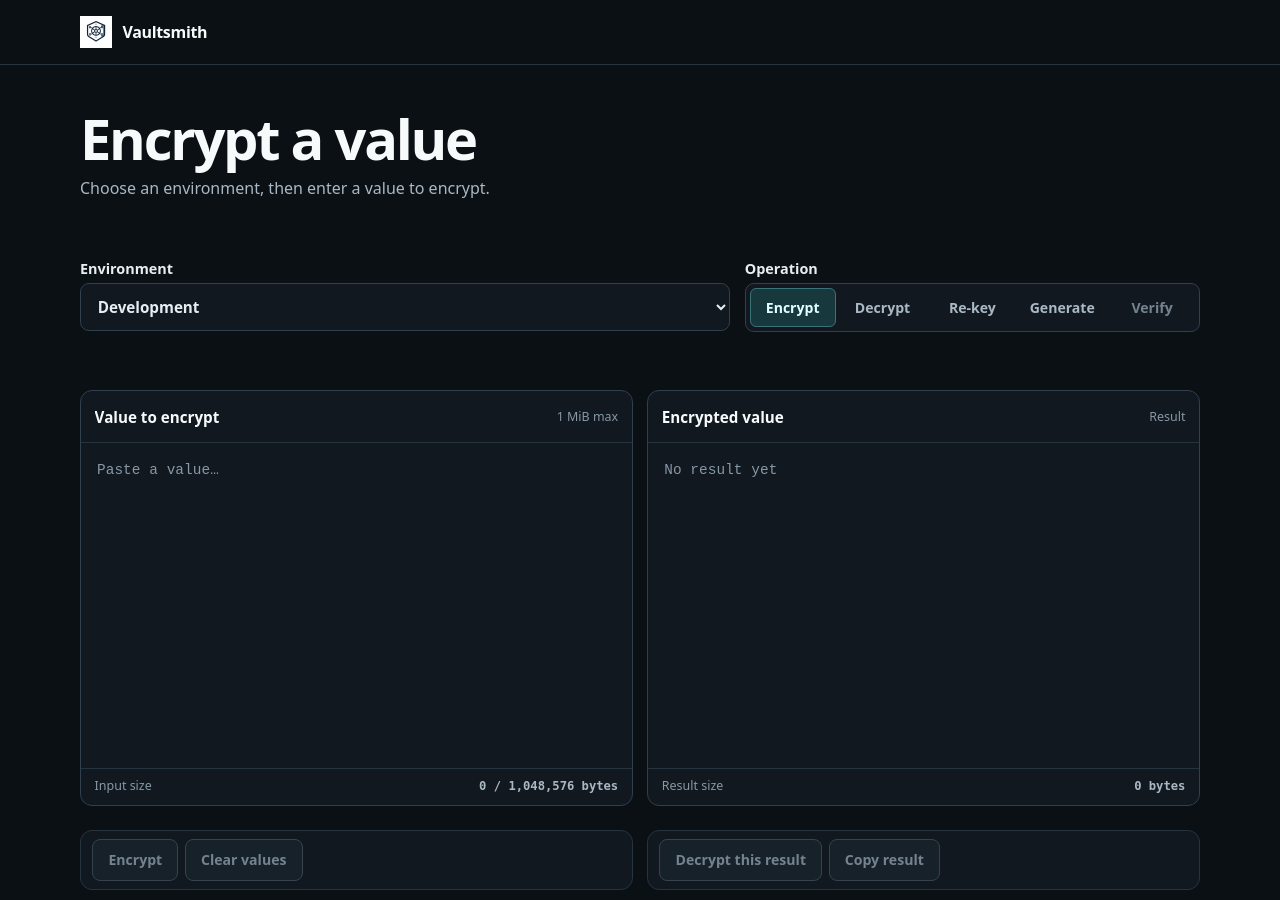
it: Vaultsmith operator experience › keeps each editor, its auxiliary content, and its actions in one pane
Type "fixture-value" into the text box labelled "Value to encrypt" at [356, 606], box [81, 443, 632, 768]
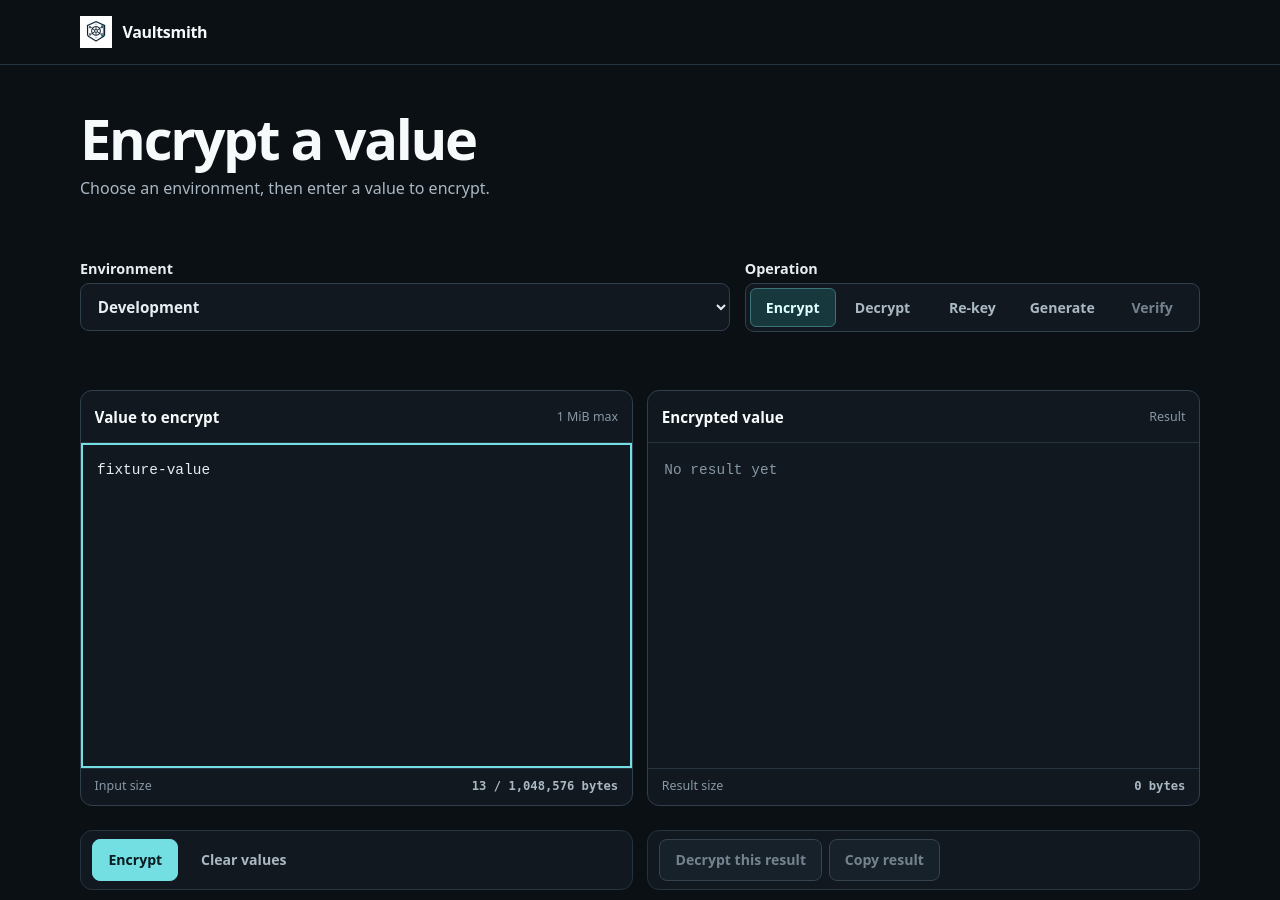
Click the button "Encrypt" below "Input size" at [135, 860], box [92, 838, 178, 881]
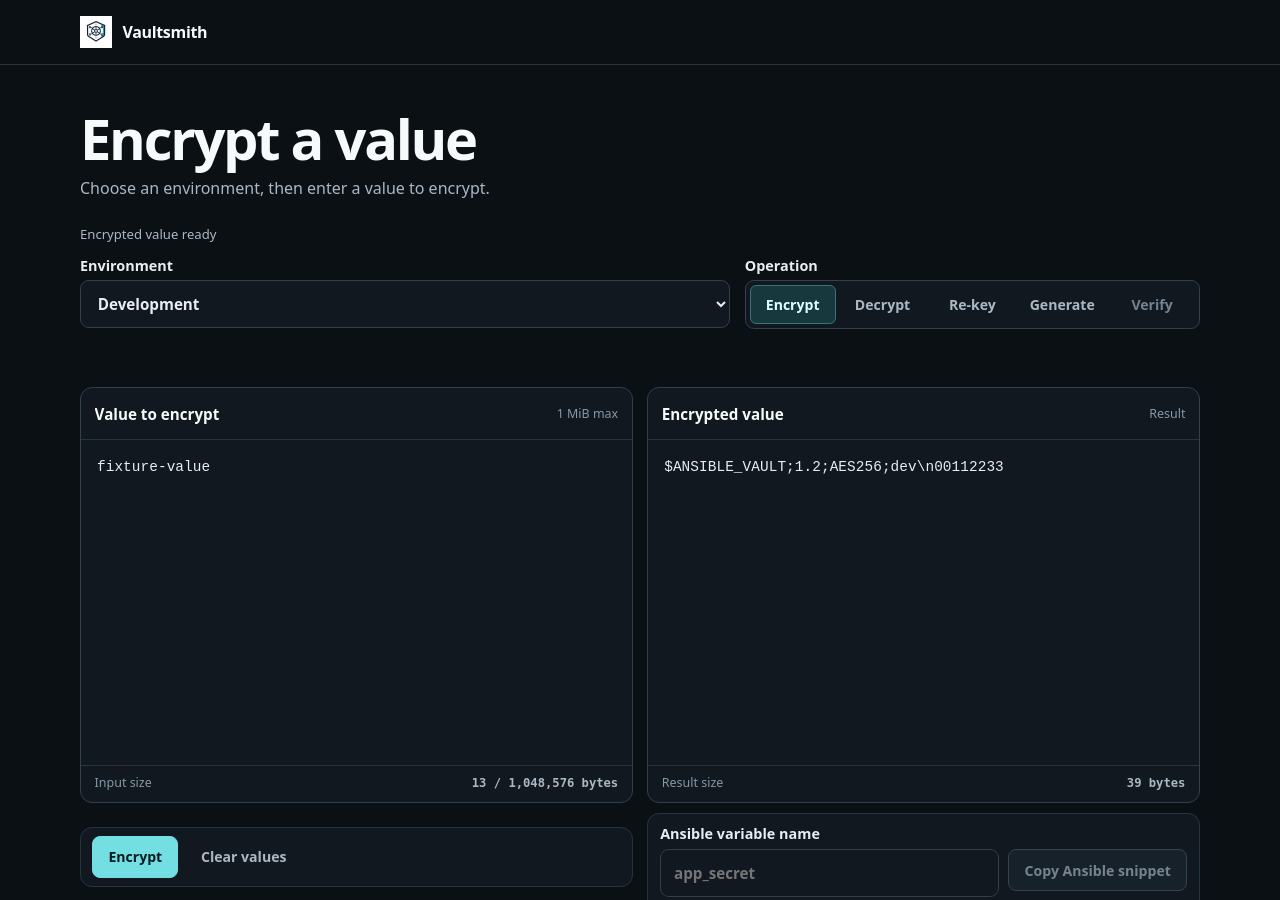
Check: the text box labelled "Encrypted value" holds "$ANSIBLE_VAULT;1.2;AES256;dev\\n00112233", box [648, 440, 1199, 765]
